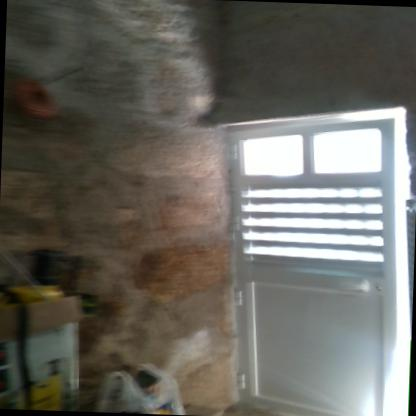closed: (224, 99, 411, 416)
